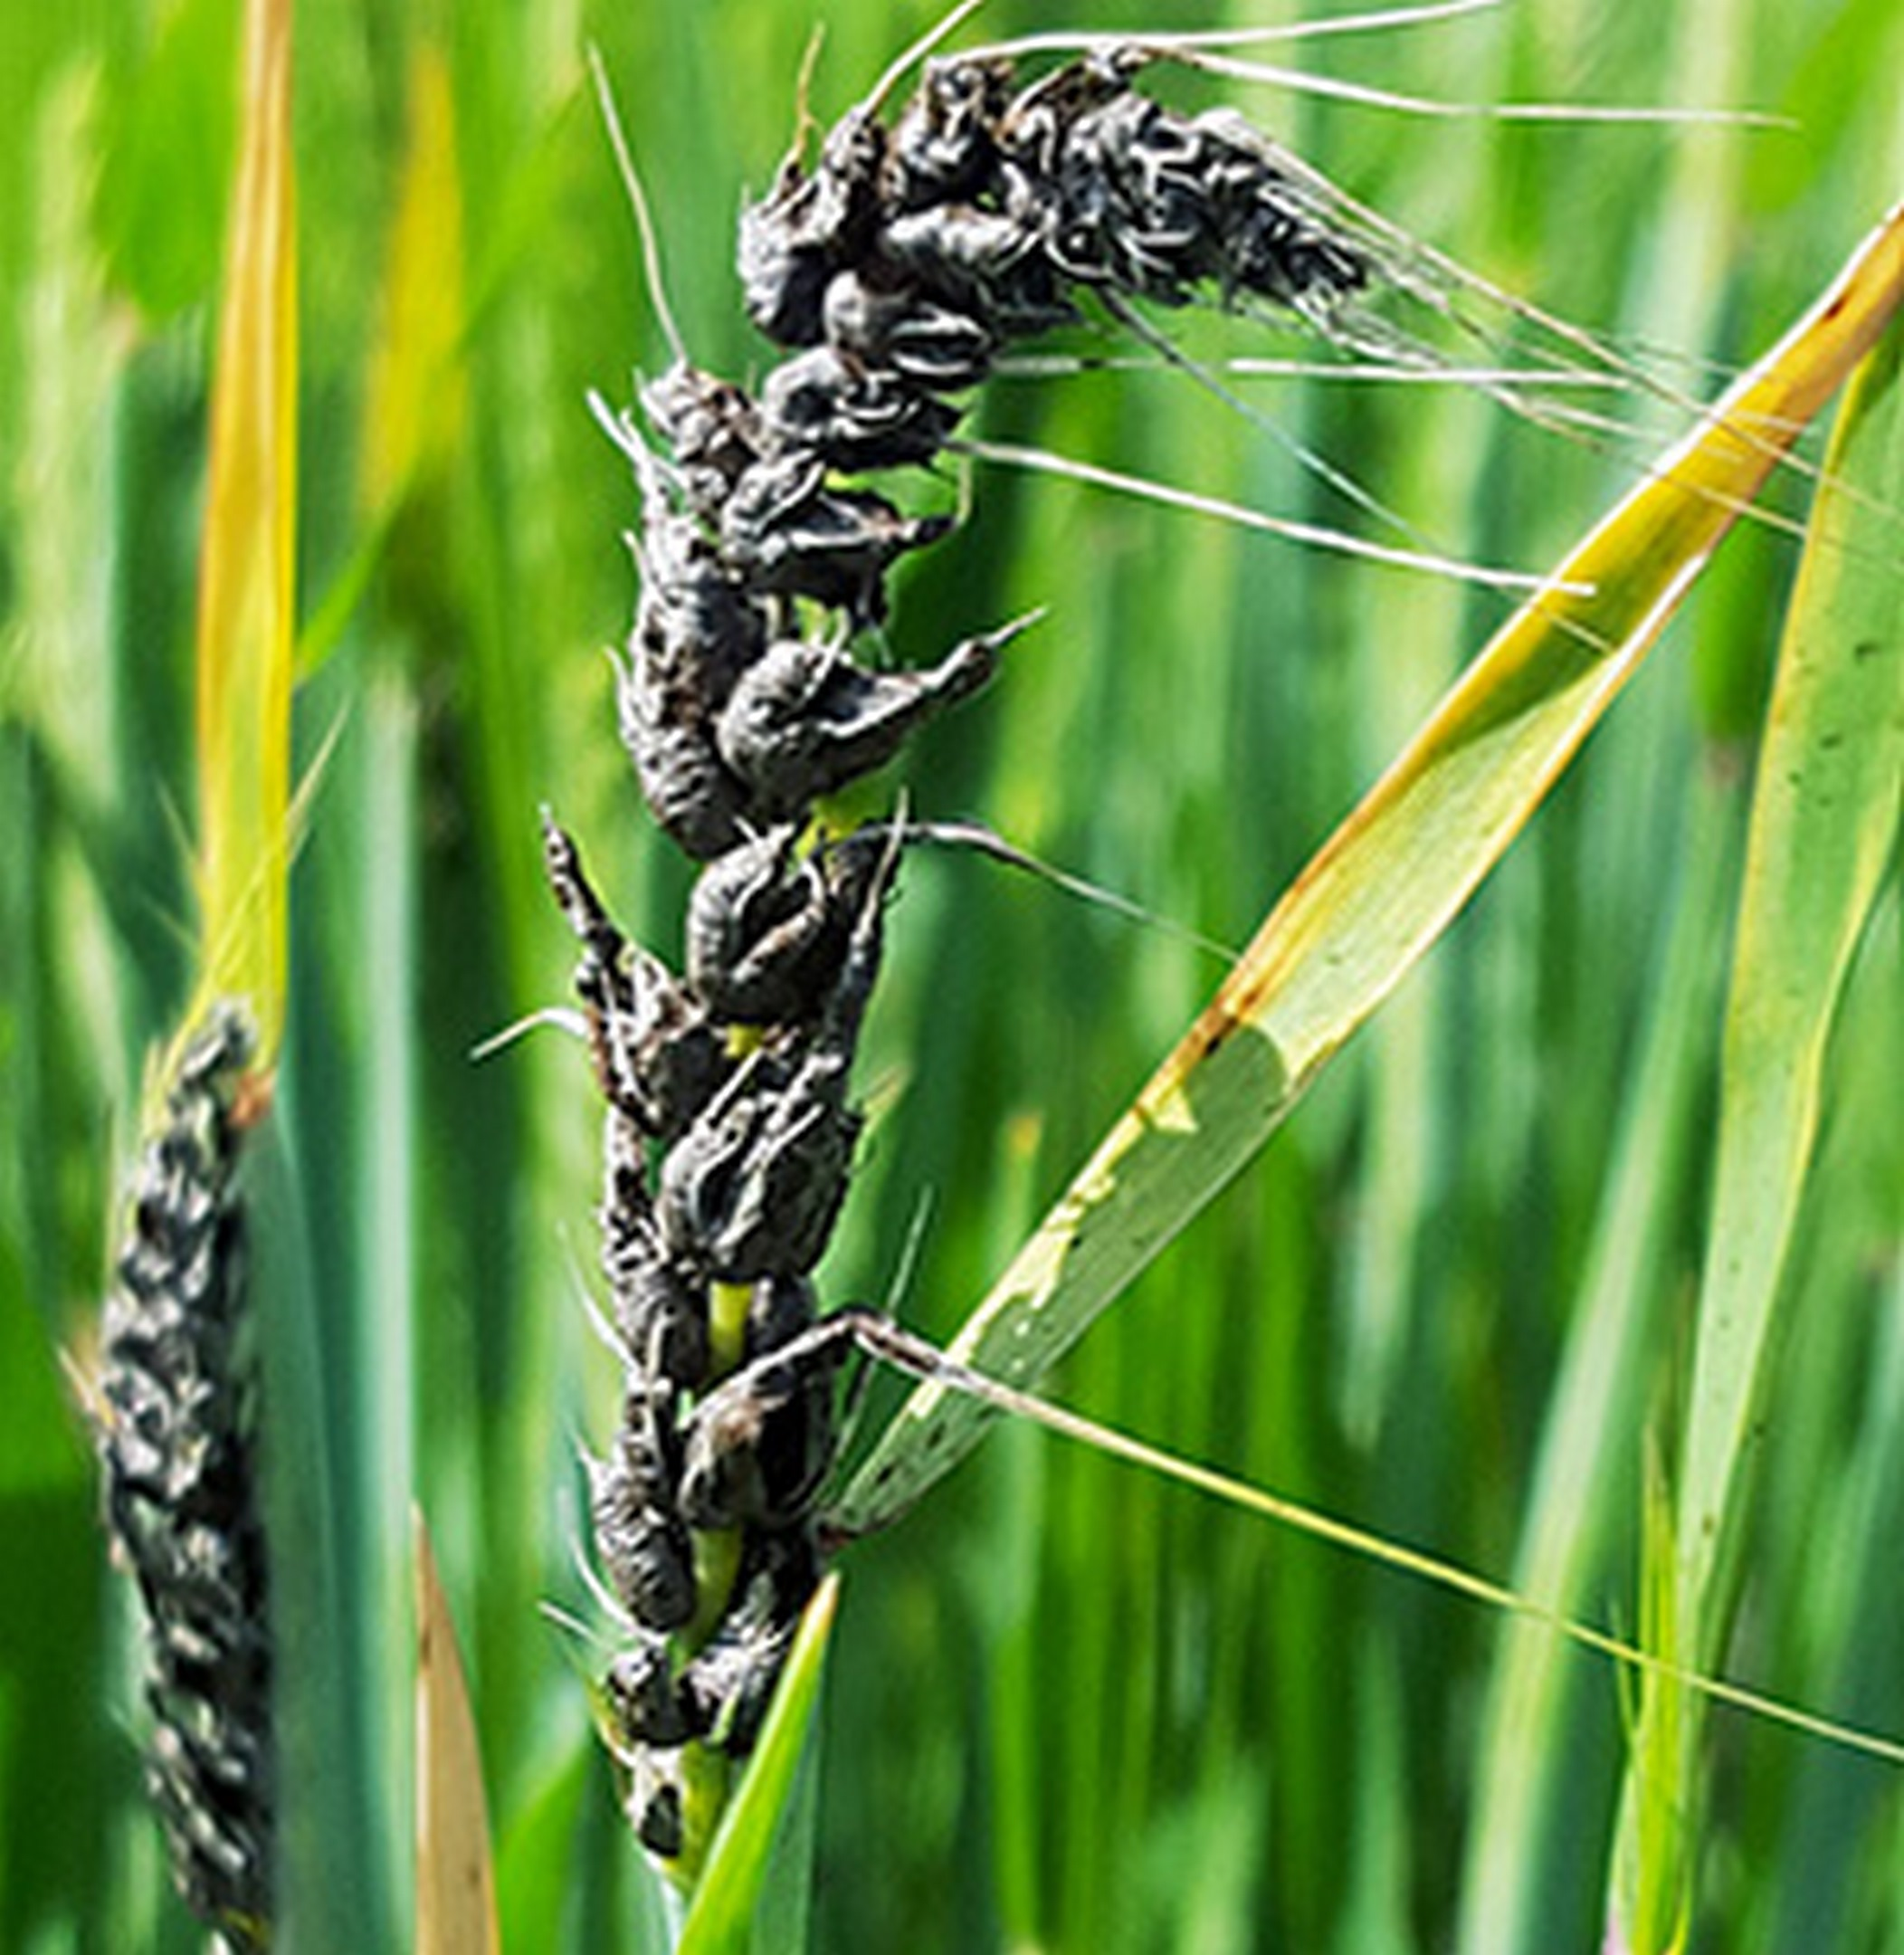Wheat Loose Smut: (490, 2, 1373, 1733)
